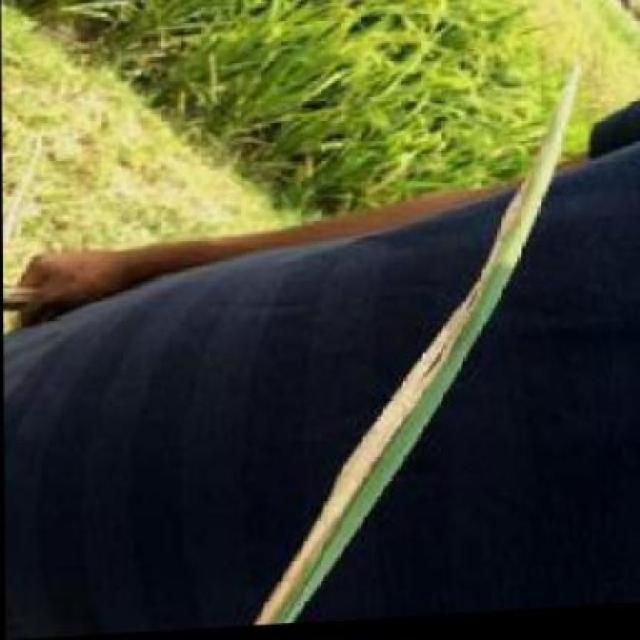Brown_Spot: (244, 273, 498, 624), (491, 19, 640, 613)
